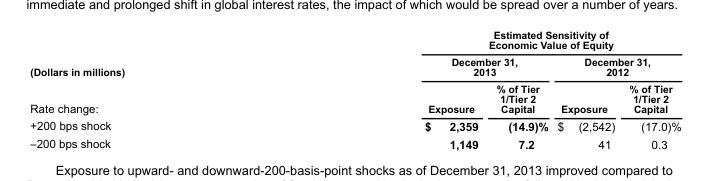table: (29, 28, 680, 150)
table column: (29, 28, 274, 150), (274, 28, 486, 150), (552, 28, 621, 150), (486, 28, 552, 150), (621, 28, 680, 150)
table column header: (29, 28, 680, 116)
table row: (29, 79, 680, 116), (29, 53, 680, 79), (29, 28, 680, 53), (29, 116, 680, 134), (29, 134, 680, 150)
table spanning cell: (29, 28, 274, 116), (274, 28, 680, 53), (274, 53, 552, 79), (552, 53, 680, 79)
